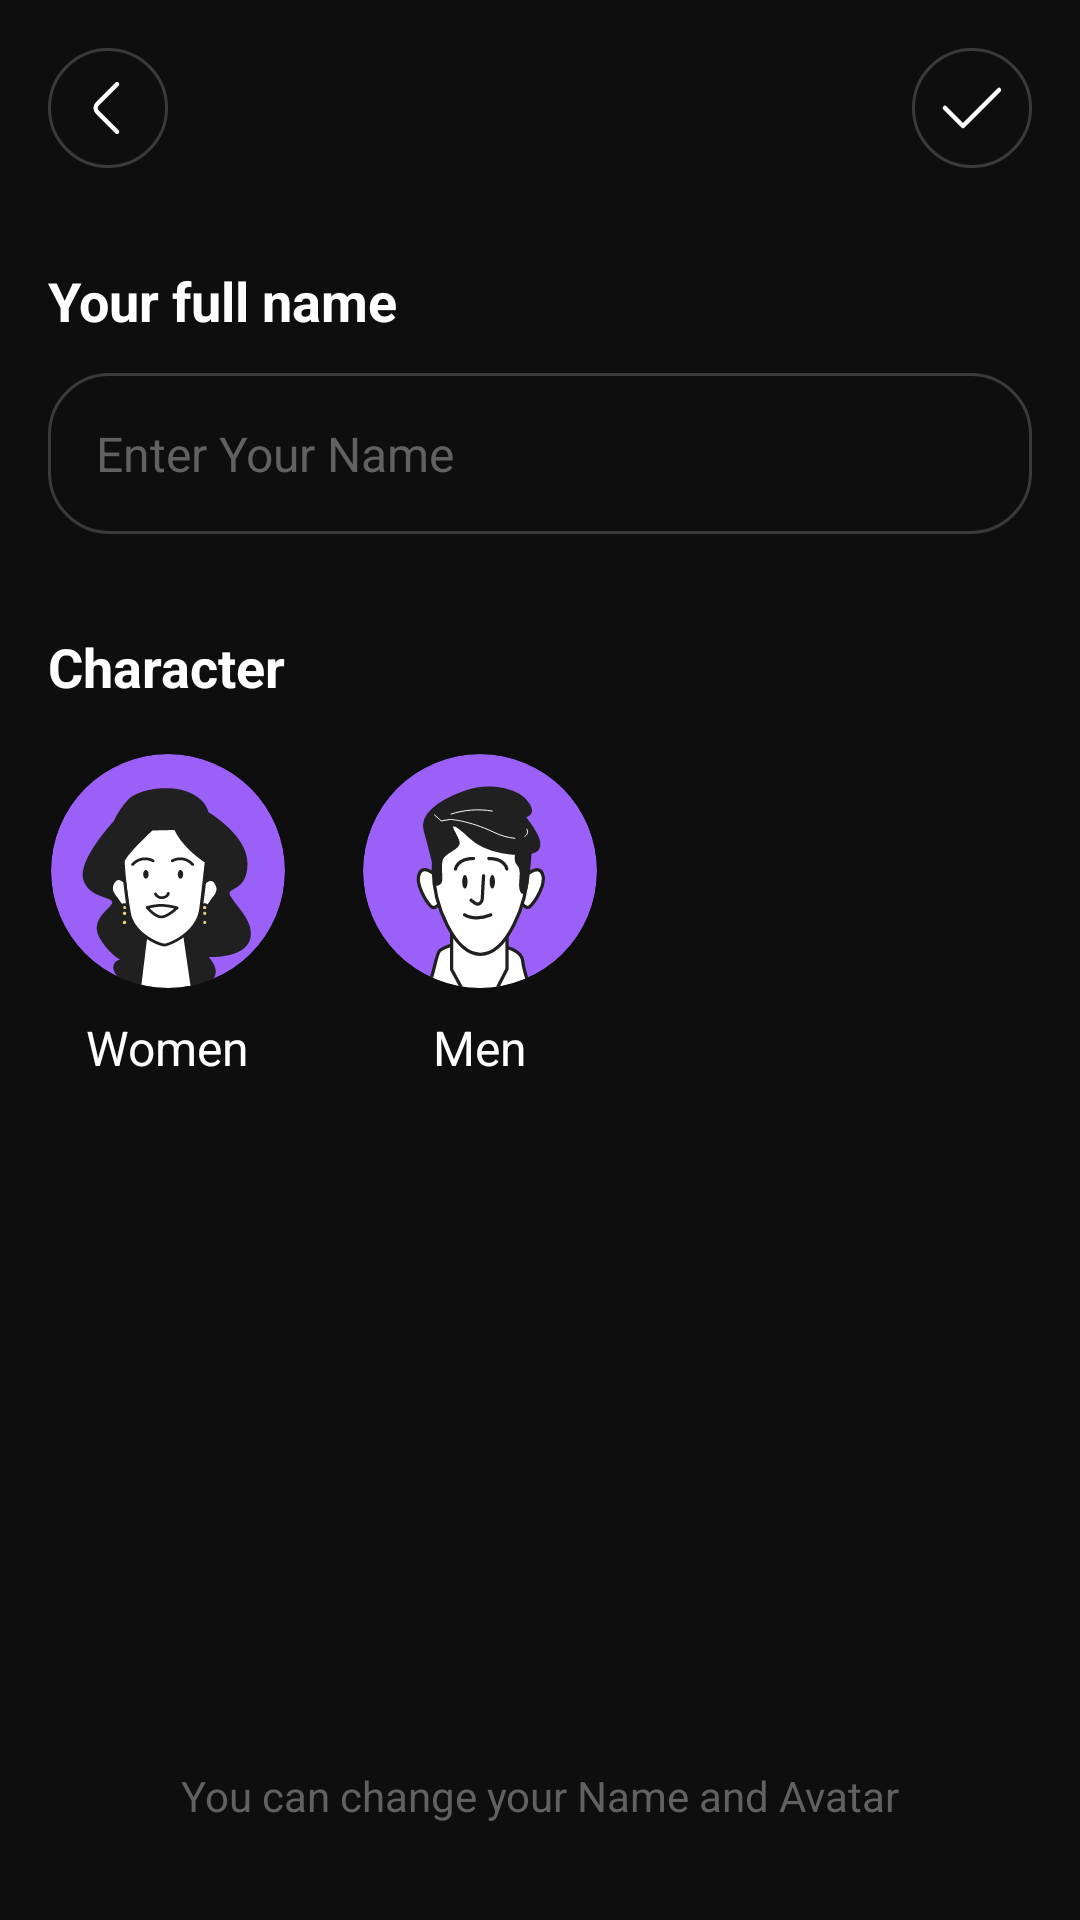

Where to tap for icons on this 1080×1920 app screen, as point (x, y):
arrow back: point (108, 108)
check: point (972, 108)
